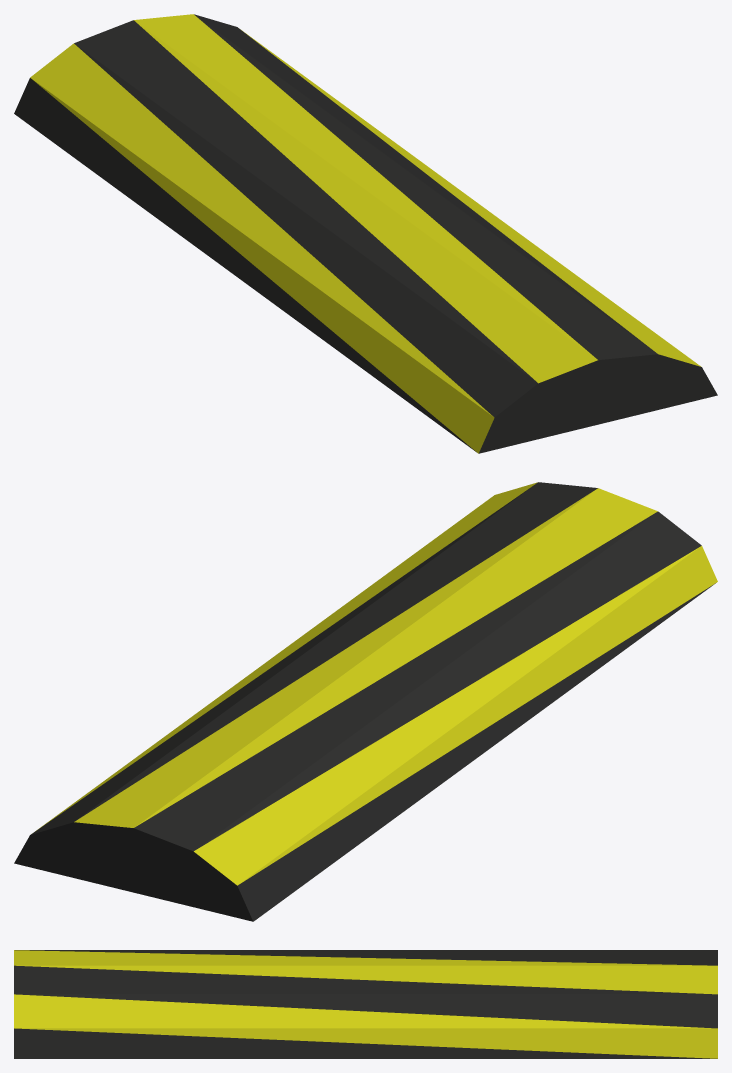
The model's file is Lombada.fbx.
The picture shows the model from 3 angles, top to bottom: view 1: azimuth 30°, elevation 25°; view 2: azimuth 150°, elevation 25°; view 3: azimuth 270°, elevation 25°; orthographic projection. The views are drawn at different scales.
Visible parts, largest first — view 1: Lombada; view 2: Lombada; view 3: Lombada.
Boxes of the visible parts, bbox=[...] form: Lombada: bbox=[14, 14, 717, 453]; Lombada: bbox=[14, 482, 717, 921]; Lombada: bbox=[14, 950, 717, 1058].
Bounding box in the file's own units: 190 × 49 × 640.
